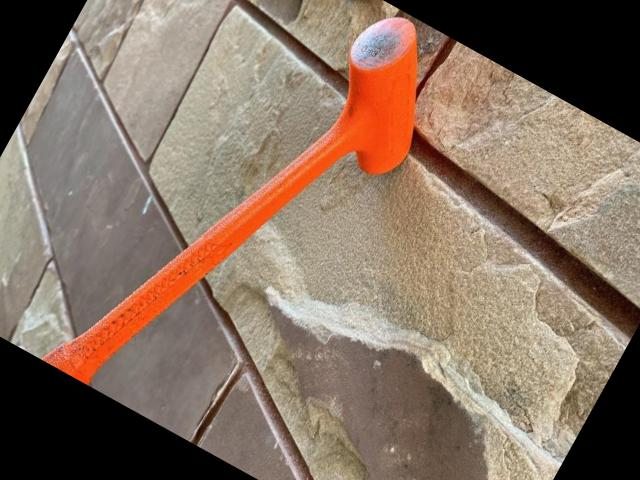hammer: (37, 0, 466, 468)
